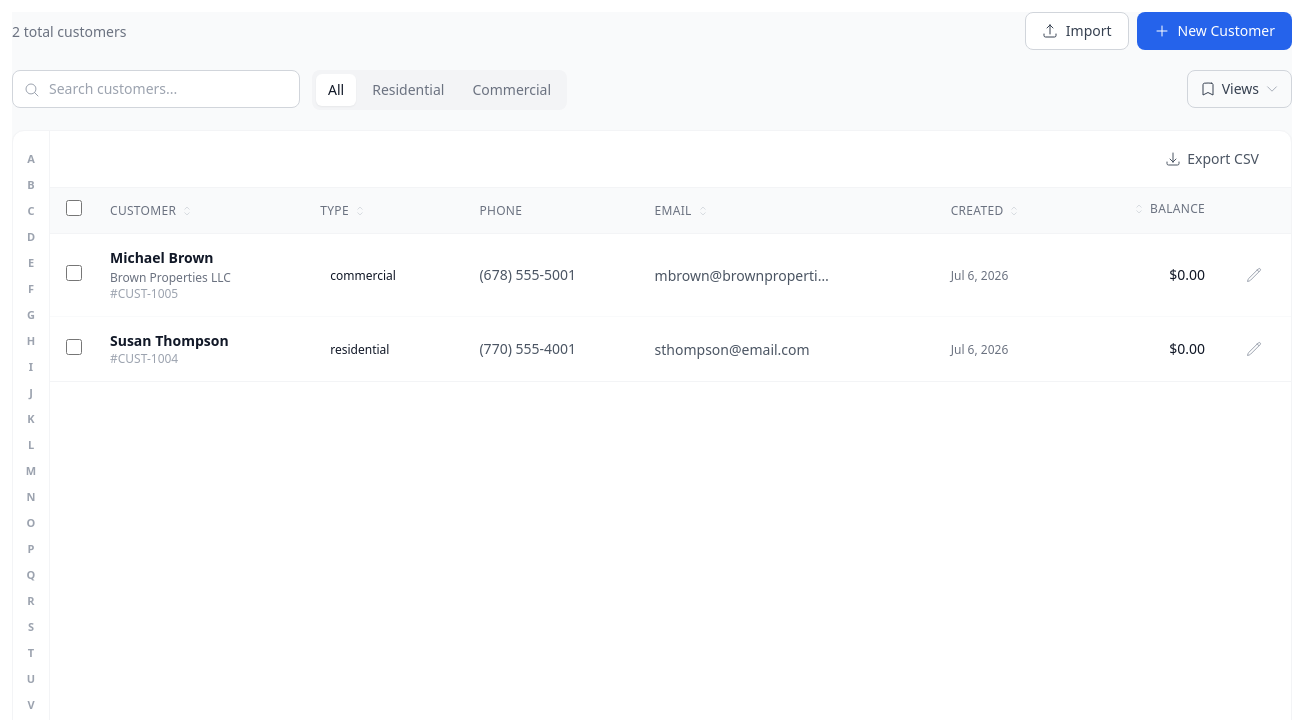
Test: CustomersPage row selection › keeps a customer selected after the search debounce window elapses
Click the checkbox next to "Michael": (74, 272) x1=66 y1=264 x2=82 y2=280
Wait 500 ms
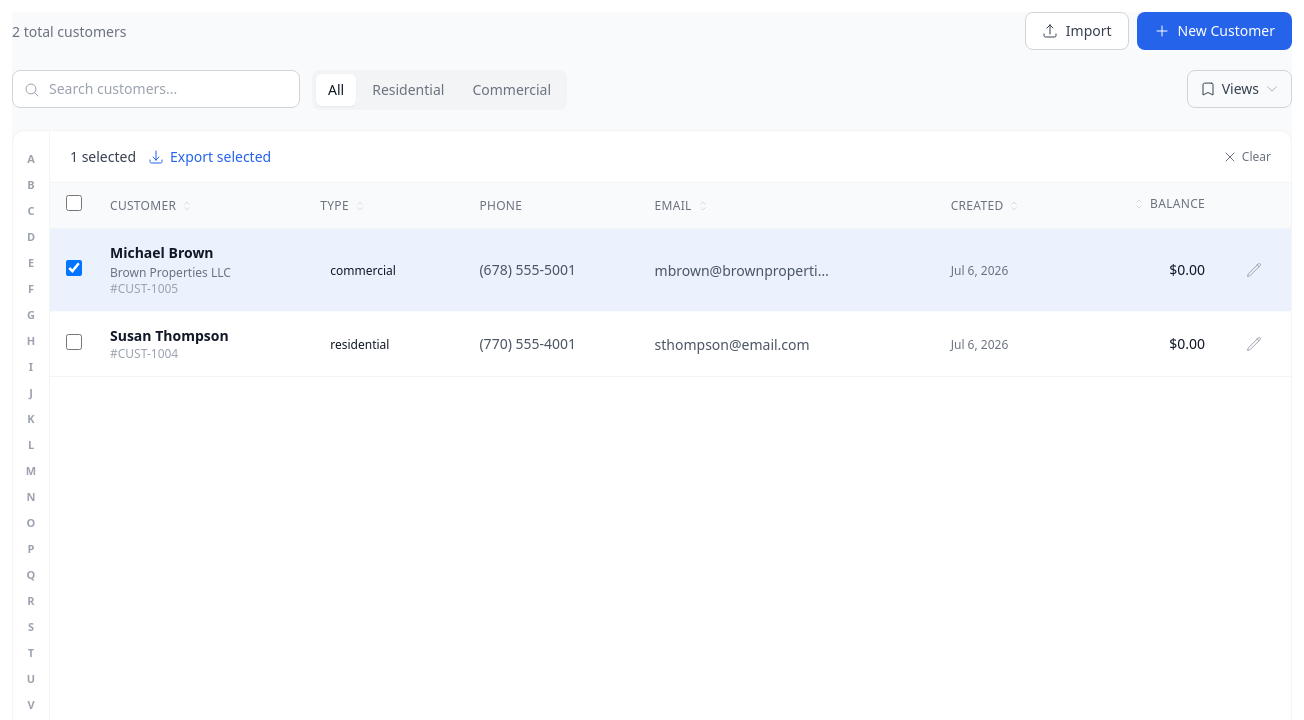
Expected: the checkbox next to "Michael" is checked, x1=66 y1=260 x2=82 y2=276
Expected: the text "1 selected" is shown, x1=70 y1=146 x2=136 y2=166
